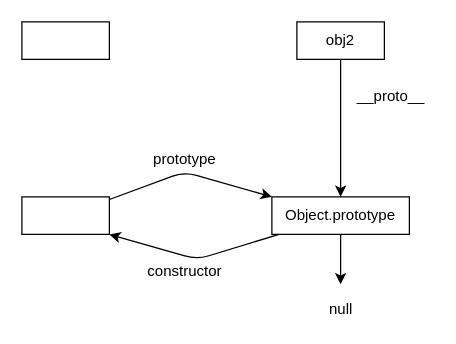
Some shapes in this 456 by 344 pixel diagram are drawn without their labels. Here are the shapes that lost their labels. From the top down, the centre of each, then its label:
At (65,40): "obj1".
At (65,215): "Object()".
